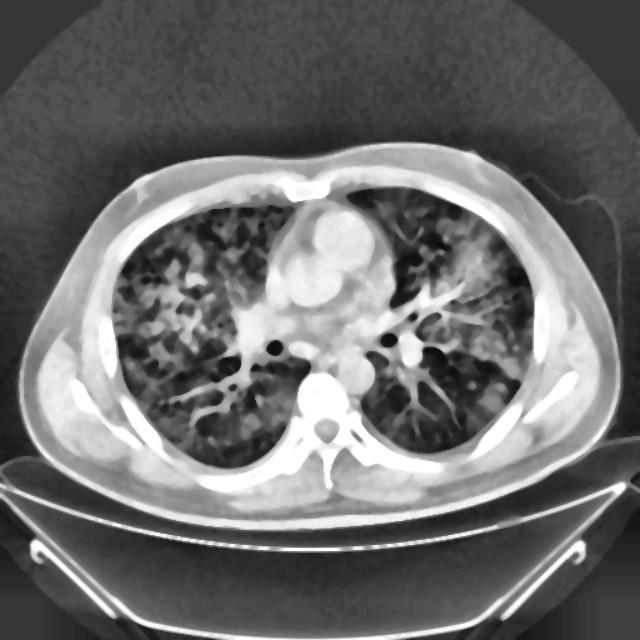covid: (20, 141, 622, 528)
